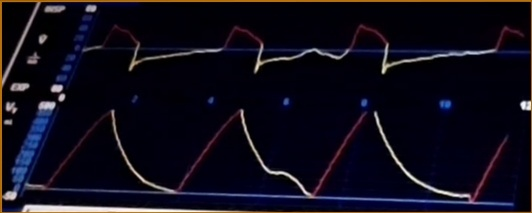Ineffective_effort Flow: (84, 16, 523, 82)
Ineffective_effort Volume: (31, 108, 511, 202)
